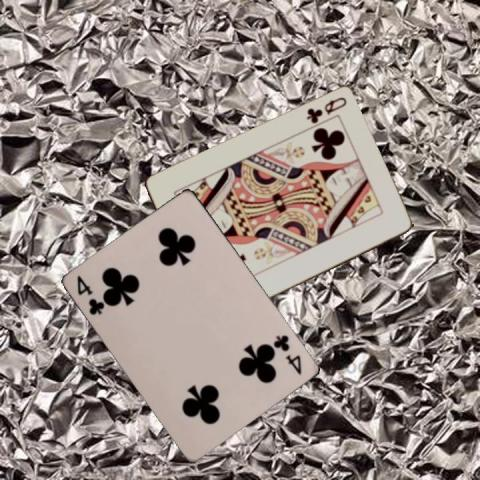4c: (74, 272, 107, 317), (271, 332, 304, 376)
Qc: (303, 94, 348, 125)
